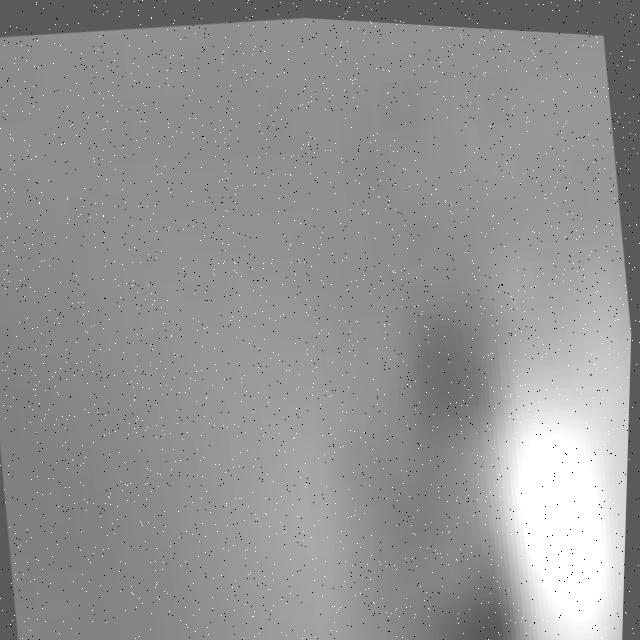person: (452, 264, 635, 640), (597, 338, 634, 633)
